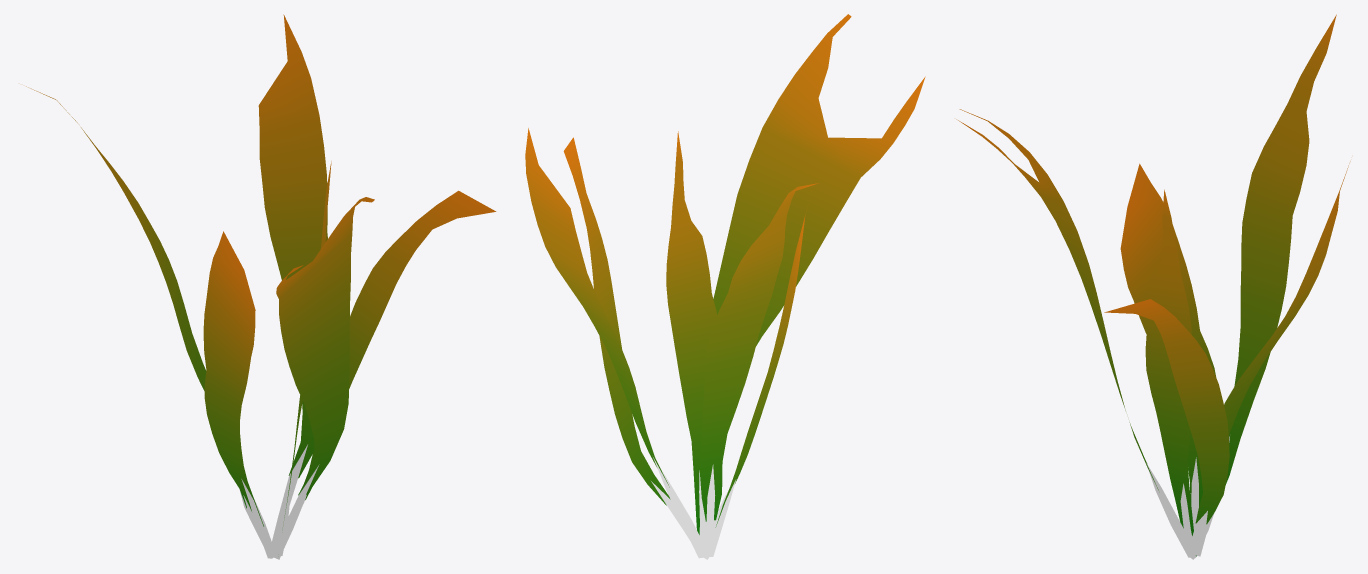
Rendered from sjglk_Var2_LOD0.fbx.
3 views of the same model, side by side, from view 1: azimuth 30°, elevation 25°; view 2: azimuth 150°, elevation 25°; view 3: azimuth 270°, elevation 25° (orthographic). The views are drawn at different scales.
Parts seen in each view (by area): view 1: _1023_Var2_LOD0; view 2: _1023_Var2_LOD0; view 3: _1023_Var2_LOD0.
Boxes of the visible parts, bbox=[...] form: _1023_Var2_LOD0: bbox=[26, 14, 496, 559]; _1023_Var2_LOD0: bbox=[525, 14, 925, 559]; _1023_Var2_LOD0: bbox=[956, 14, 1350, 559].
Bounding box in the file's own units: 65.88 × 81.6 × 64.84.
